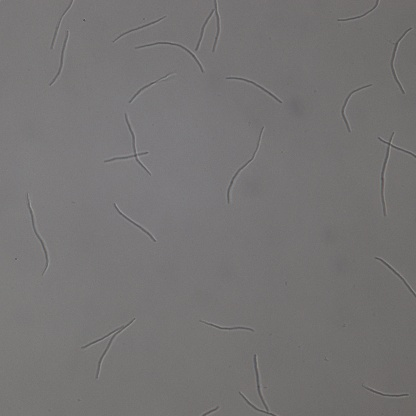Sensitive: (81, 318, 136, 380), (378, 131, 416, 219), (103, 112, 150, 176), (225, 128, 265, 203), (25, 193, 53, 277), (239, 353, 276, 416), (135, 40, 204, 71), (341, 81, 373, 134), (375, 258, 416, 299), (114, 203, 156, 242), (389, 27, 413, 94), (226, 74, 282, 102), (111, 16, 166, 44), (193, 1, 222, 51), (128, 71, 173, 103), (50, 30, 71, 86), (51, 1, 72, 46), (337, 1, 379, 23), (364, 384, 409, 402), (202, 321, 254, 333)
